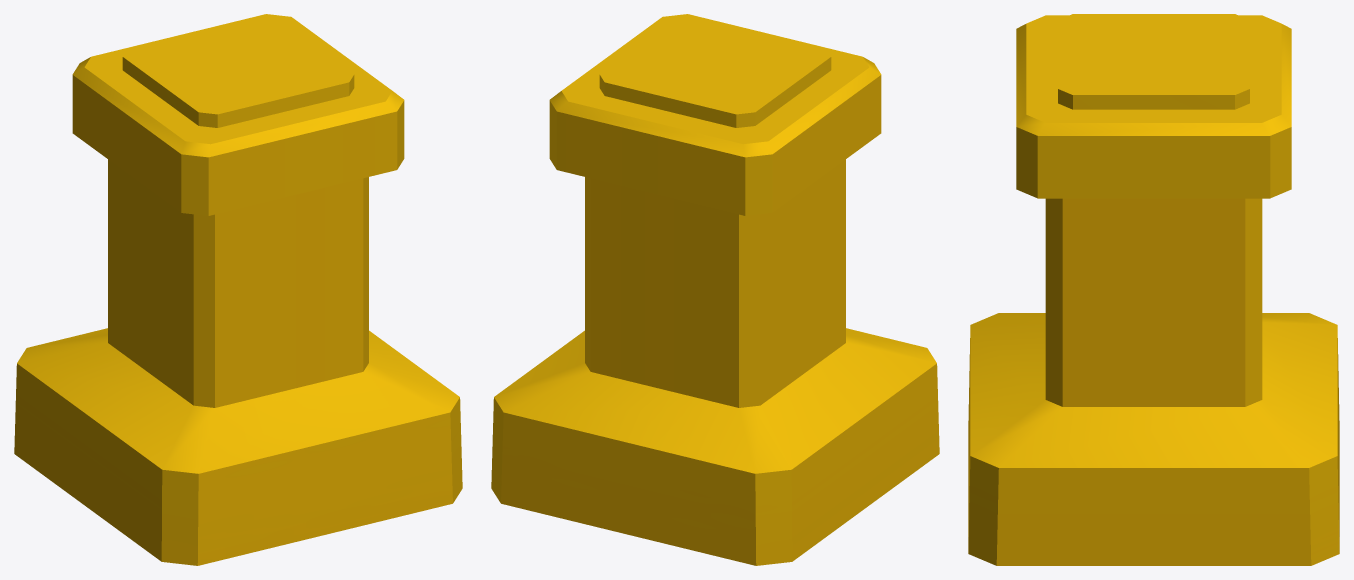
File: Edge Pillar Corner 01.fbx
The picture shows the model from 3 angles, left to right: view 1: azimuth 30°, elevation 25°; view 2: azimuth 150°, elevation 25°; view 3: azimuth 270°, elevation 25°; orthographic projection. The views are drawn at different scales.
Visible parts, largest first — view 1: Edge Pillar Corner 01; view 2: Edge Pillar Corner 01; view 3: Edge Pillar Corner 01.
Part boxes in pixels (bbox=[...]): Edge Pillar Corner 01: bbox=[14, 14, 462, 565]; Edge Pillar Corner 01: bbox=[491, 14, 939, 565]; Edge Pillar Corner 01: bbox=[968, 14, 1339, 565].
Size of the model in its own units: 60.45 by 77.88 by 60.47.
